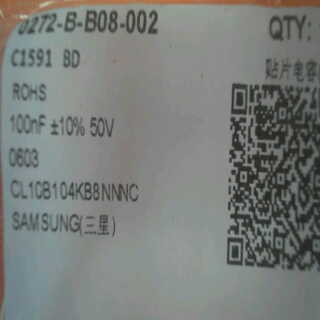100nF: (4, 111, 45, 137)
